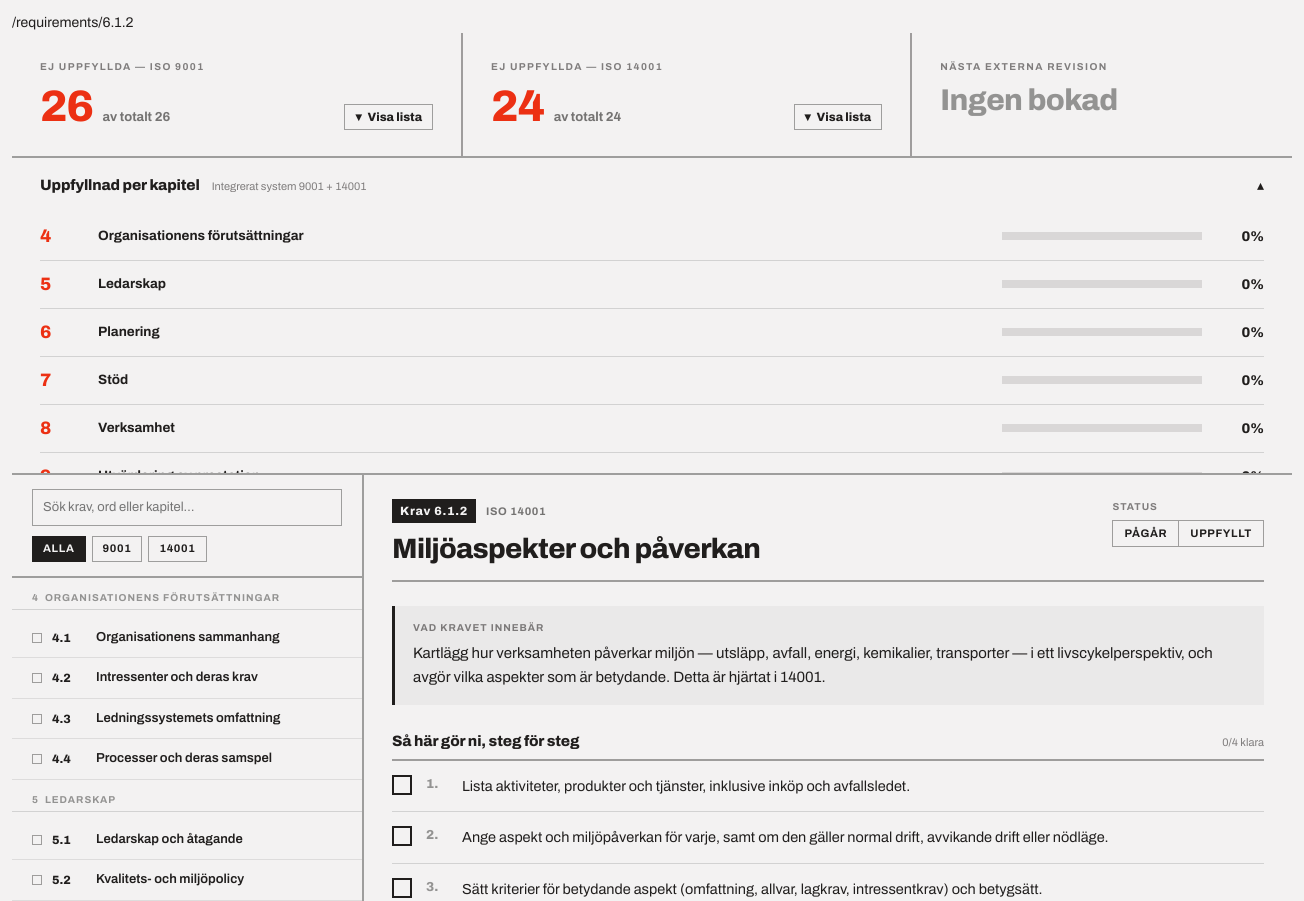
Test: the requirement walkthrough › changes the clause status
Click the button "Uppfyllt": [1221, 534] box left=1178, top=521, right=1263, bottom=546
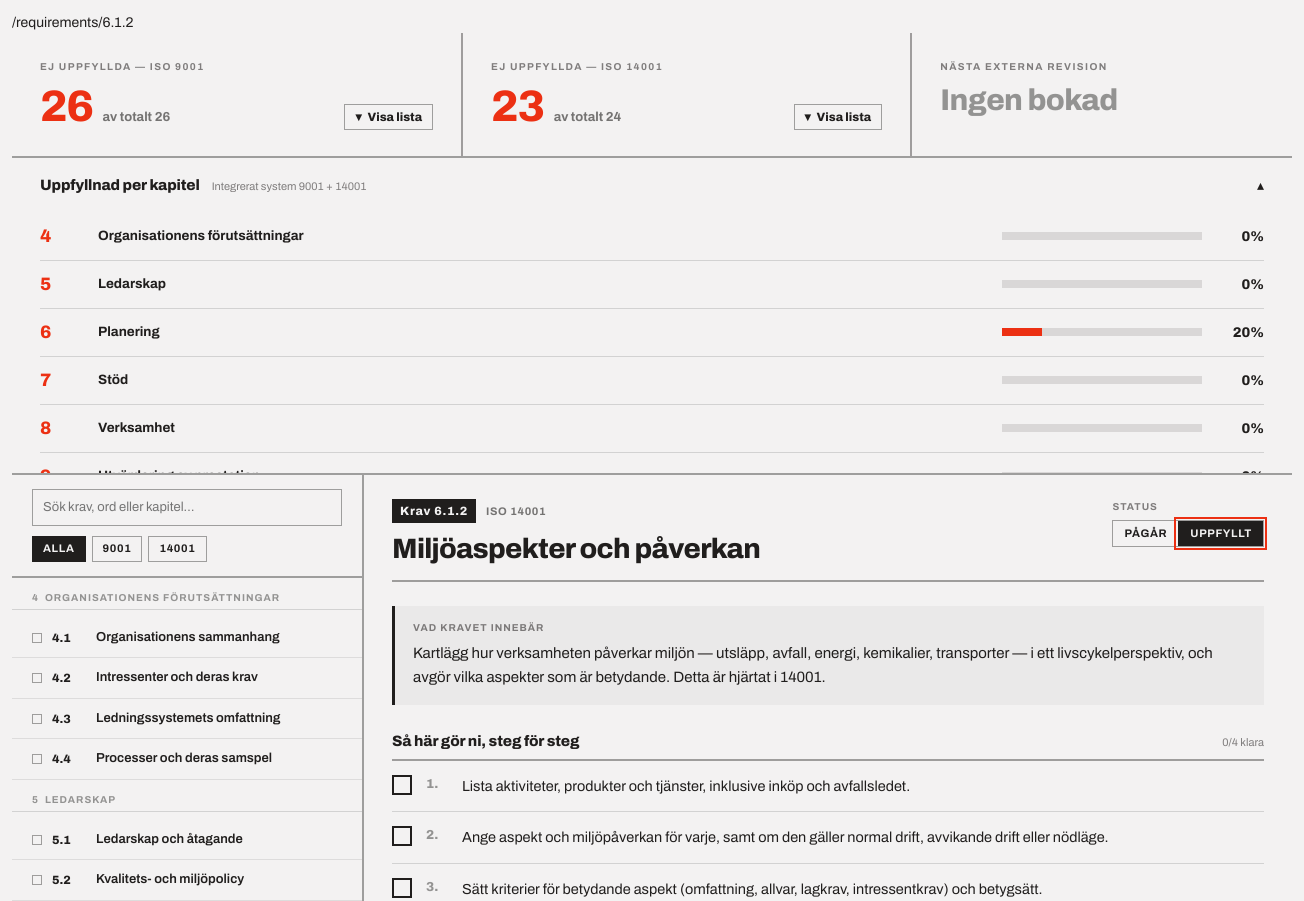
Expected: the button "Uppfyllt" is pressed, left=1178, top=521, right=1263, bottom=546
